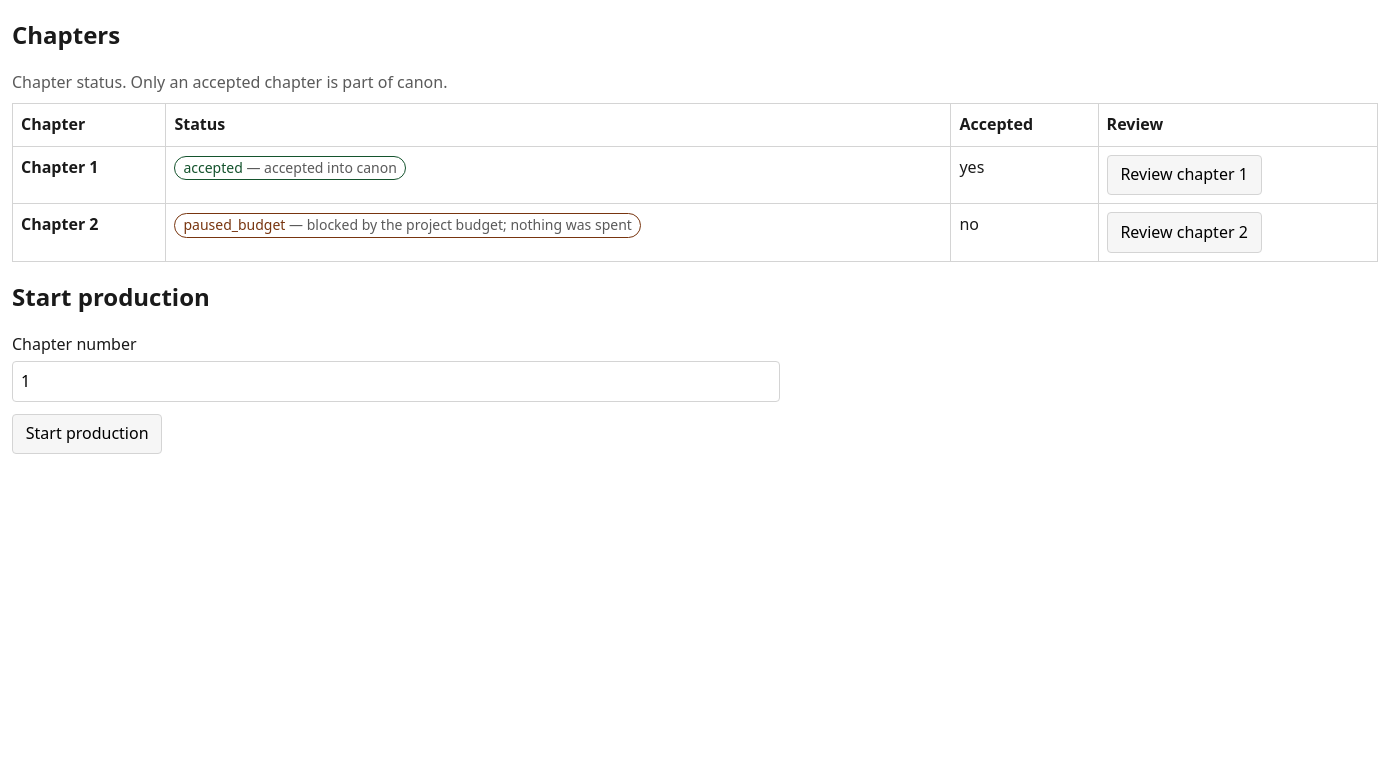
it: chapters and production › reports a budget refusal as a refusal before spend
What coordinates should you click on to do the following:
click the button "Start production"
I would click on:
 (87, 434)
Its box is [12,414,162,454].
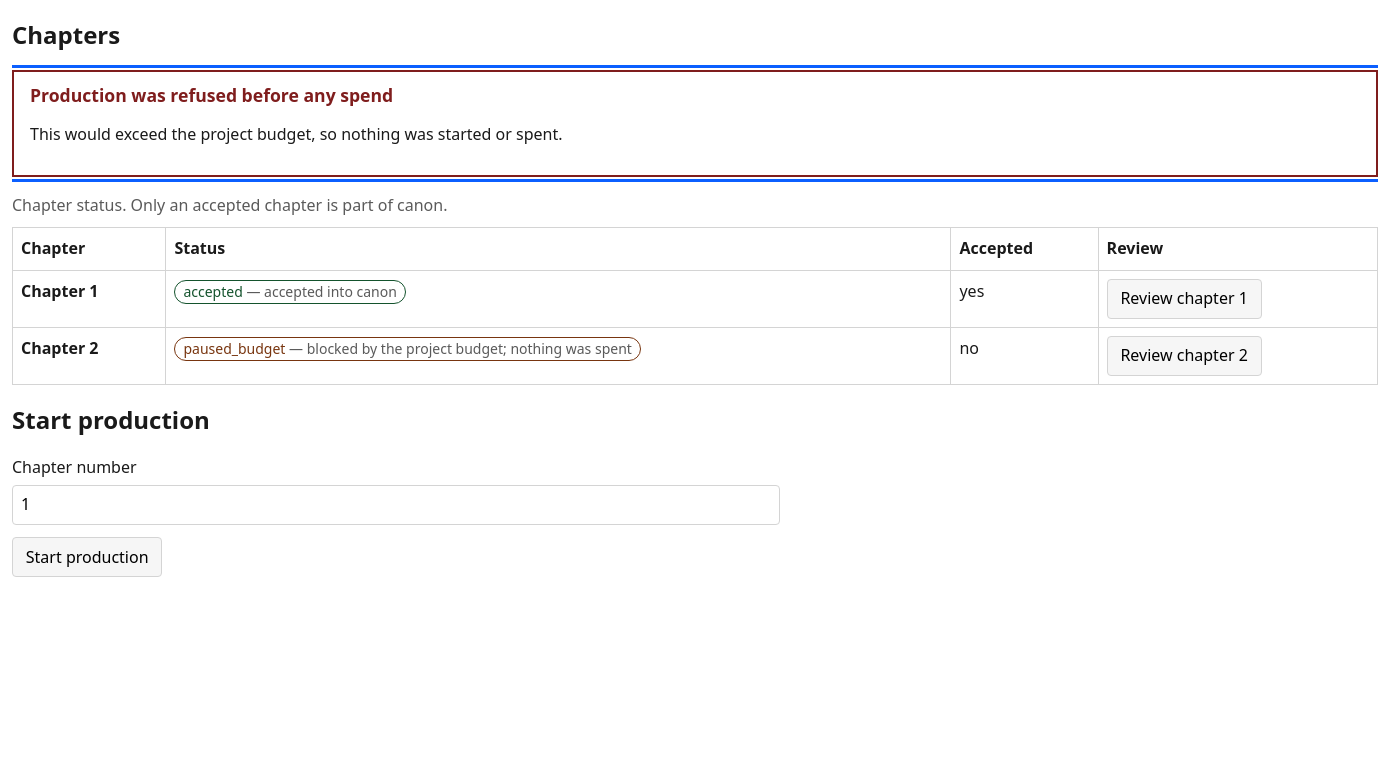
Now the message shows "refused before any spend", box [30,83,393,107]
Now the message shows "nothing was started or spent", box [30,123,562,145]
